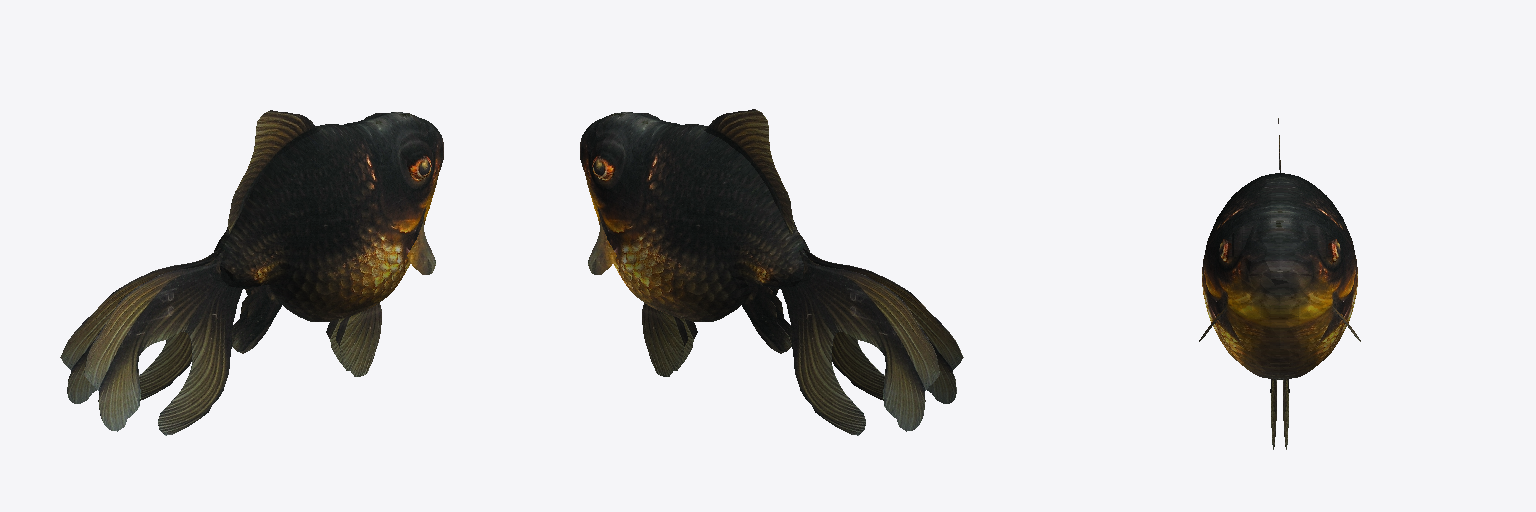
The picture shows the model from 3 angles: view 1: azimuth 30°, elevation 25°; view 2: azimuth 150°, elevation 25°; view 3: azimuth 270°, elevation 25°; orthographic projection.
Bounding box in the file's own units: 1.51 × 1.13 × 0.5804.
Materials: 1 (1 with a texture image).